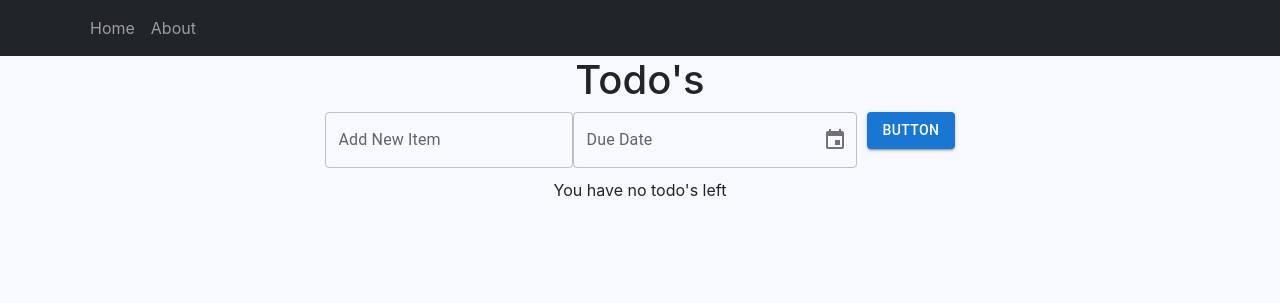
Test: test that App component can delete task through checkbox
In the field labelled "Add New Item": (448, 140) [324, 112, 572, 168], type "History Test"
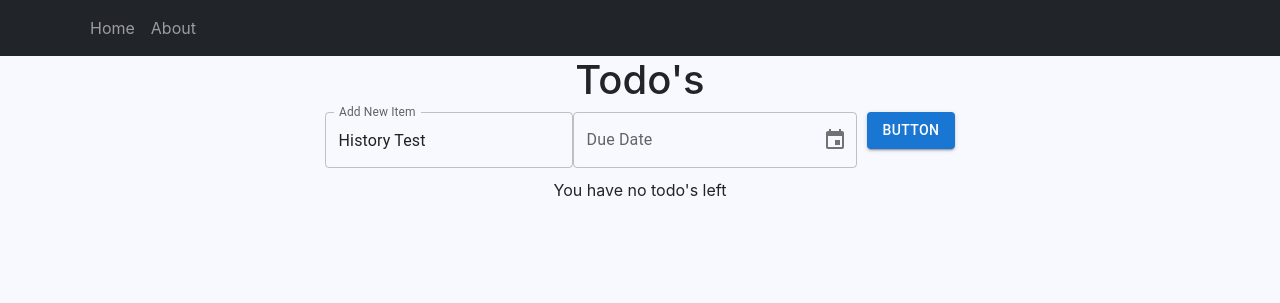
In the field with placeholder "mm/dd/yyyy": (690, 140) [572, 112, 806, 168], type "05/30/2023"
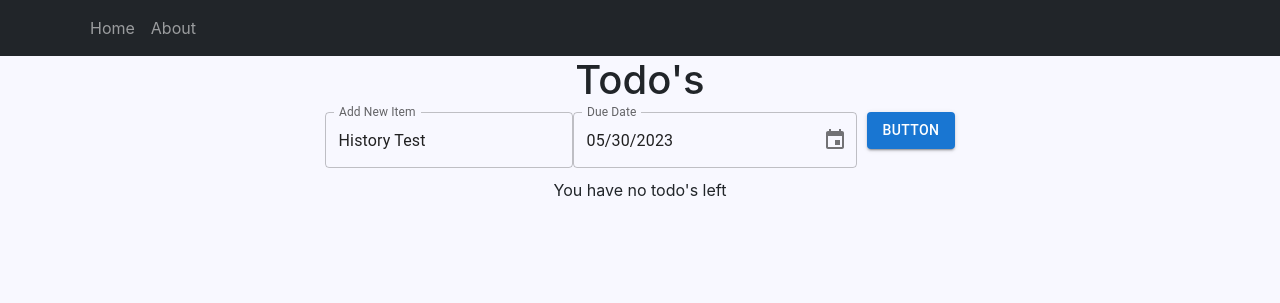
Click the button "button": (911, 130) [866, 112, 955, 148]
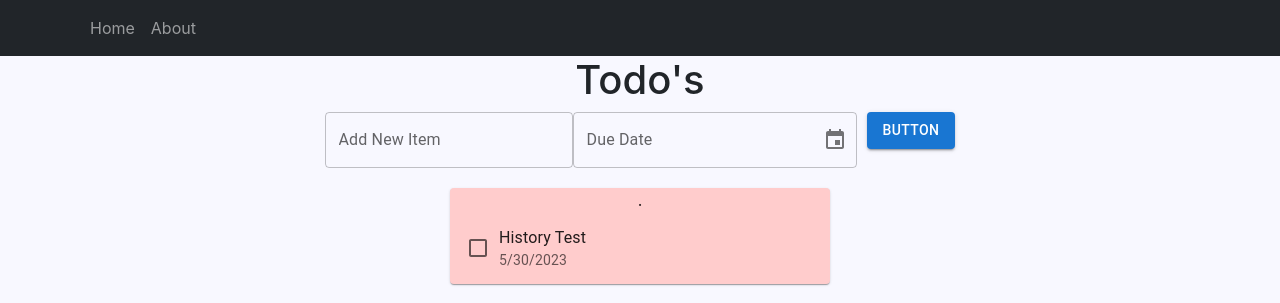
Click the checkbox: (478, 248) [466, 236, 490, 260]
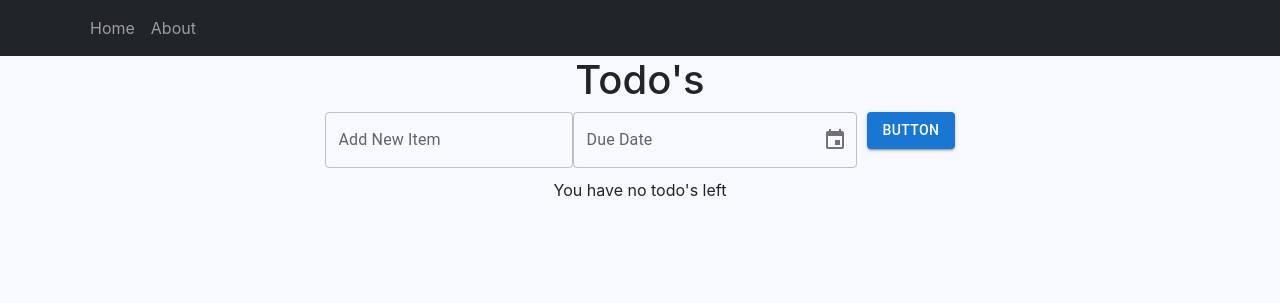
Result: the text "You have no todo's left" is shown at [554, 180, 726, 200]
